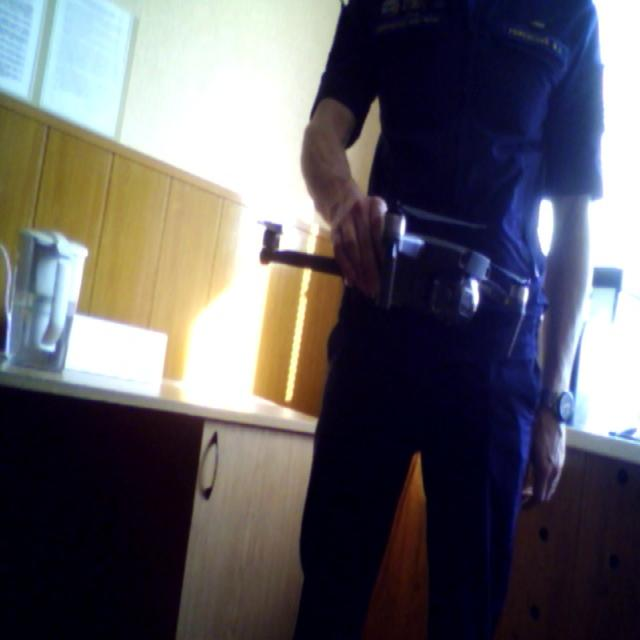drone: (245, 187, 557, 370)
